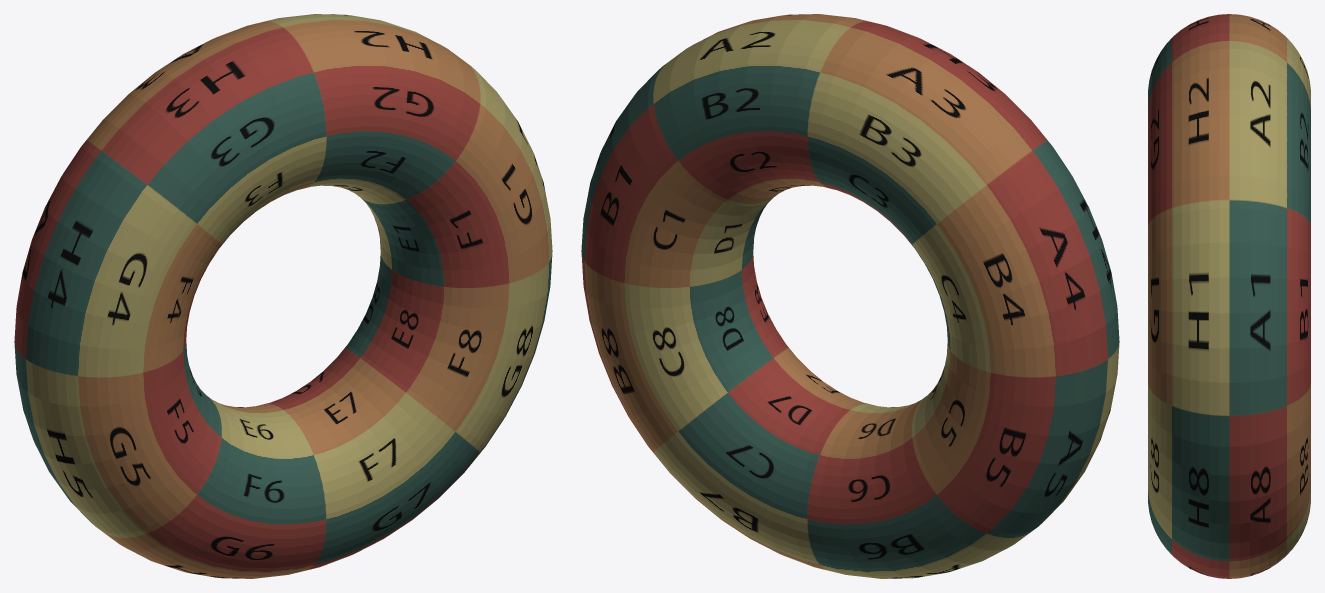
Rendered from texture_torus_R16_r24.glb.
The picture shows the model from 3 angles, left to right: view 1: azimuth 30°, elevation 25°; view 2: azimuth 150°, elevation 25°; view 3: azimuth 270°, elevation 25°; orthographic projection. The views are drawn at different scales.
Visible parts, largest first — view 1: world; view 2: world; view 3: world.
Part boxes in pixels (left/top/right/bottom): world: left=14, top=14, right=552, bottom=578; world: left=581, top=14, right=1119, bottom=578; world: left=1148, top=14, right=1310, bottom=578.
Bounding box in the file's own units: 29.07 × 29.01 × 8.38.
Materials: 1 (1 with a texture image).
